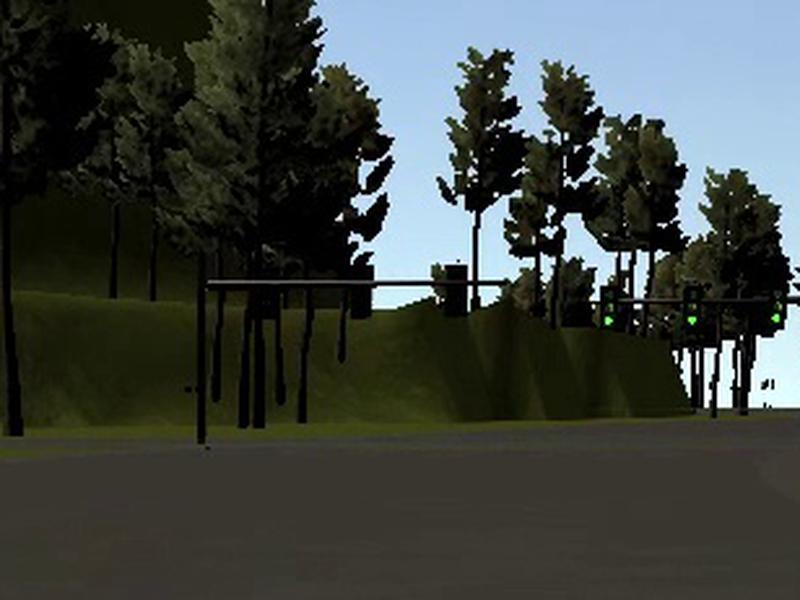Green: (600, 284, 619, 330), (683, 285, 702, 331), (767, 287, 786, 329)
